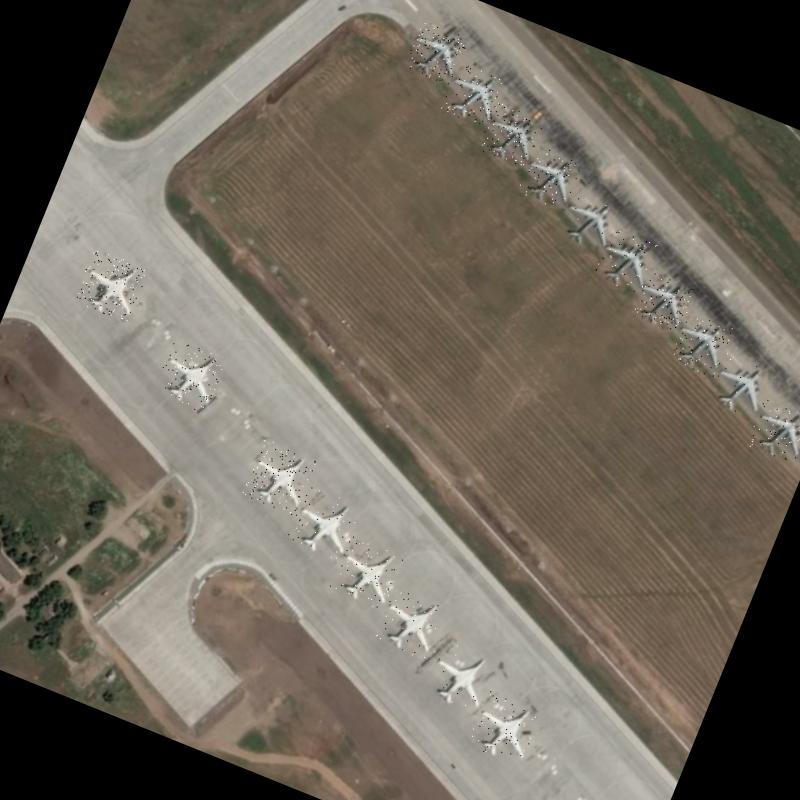A17: (705, 352, 774, 420), (477, 101, 544, 169), (592, 226, 658, 294), (667, 310, 733, 378), (438, 61, 504, 128), (516, 144, 582, 211), (403, 20, 469, 86), (554, 188, 620, 254), (630, 270, 694, 332), (745, 397, 800, 464)
A6: (284, 485, 362, 562), (240, 438, 317, 515), (466, 690, 542, 766), (328, 535, 404, 611), (72, 247, 148, 323), (422, 638, 496, 714), (152, 338, 226, 414), (373, 586, 447, 660)
